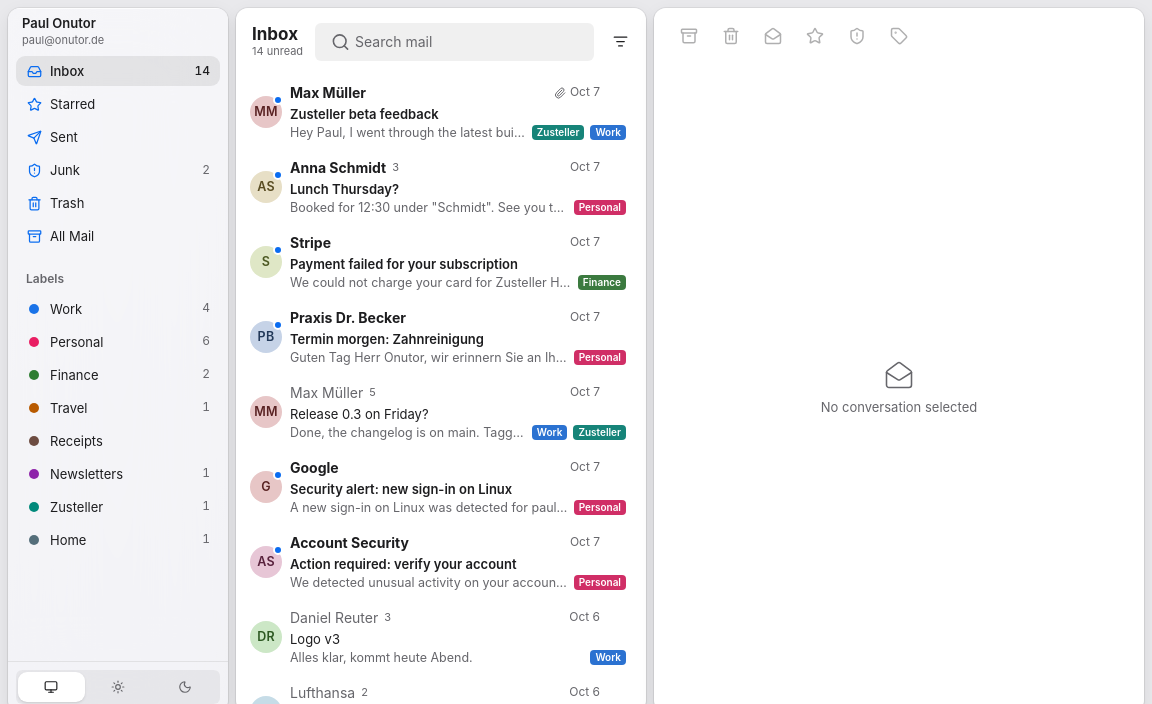
Scenario: Junk mailbox › lists seeded junk threads and keeps them out of Inbox, All Mail and Starred
Expected: the option that starts with "Max Müller" is shown, 244,75 -> 638,149
Click the button "Junk 2": (118, 170) 16,155 -> 220,185
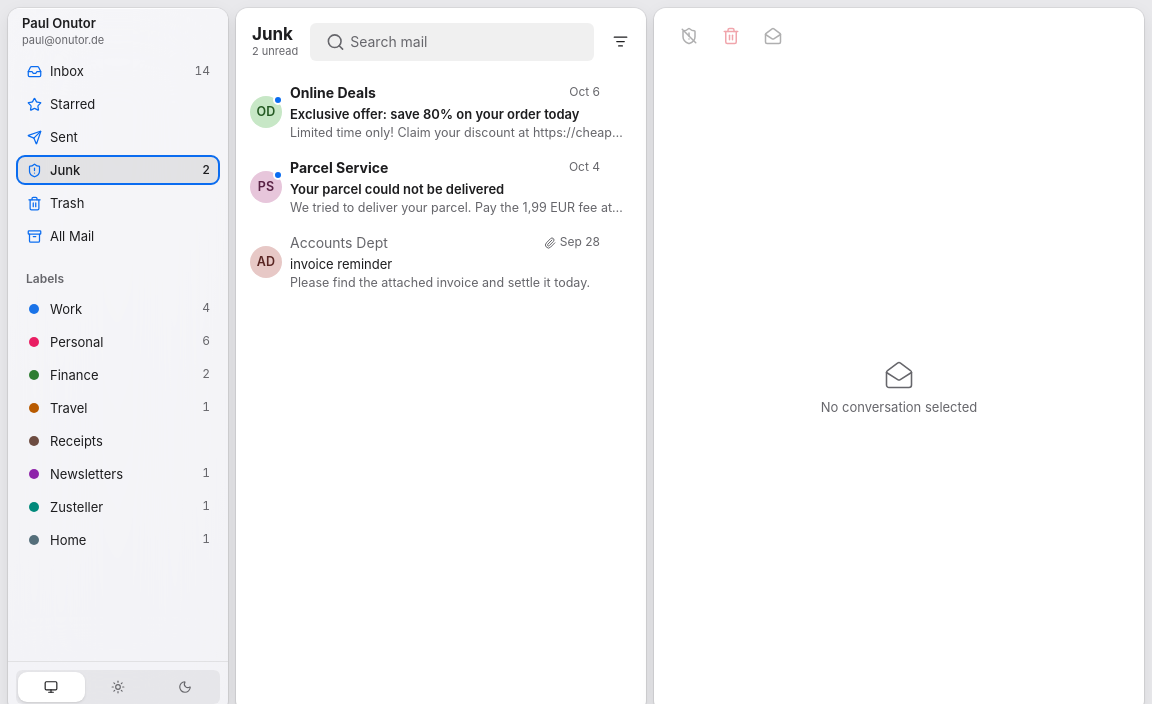
Expected: the heading "Junk" is shown, 252,24 -> 298,45
Expected: the option that starts with "Online Deals" is shown, 244,75 -> 638,149
Expected: the option that starts with "Parcel Service" is shown, 244,150 -> 638,224
Click the button "Inbox 14": (118, 71) 16,56 -> 220,86
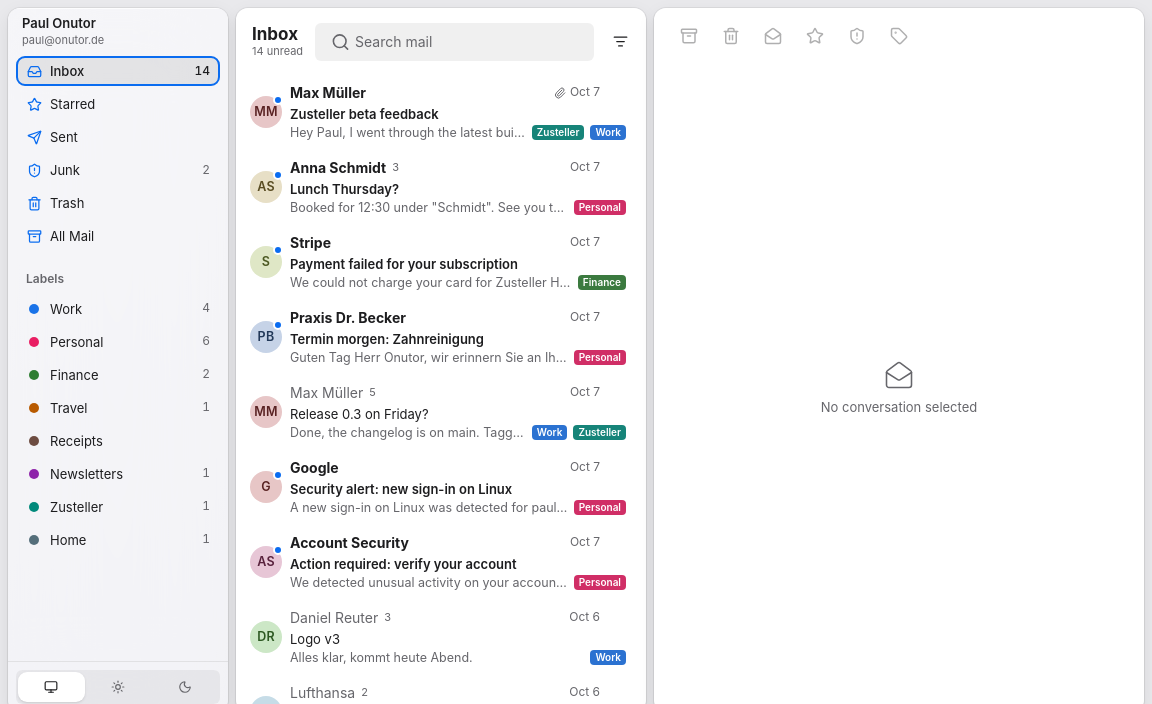
Expected: the option that starts with "Max Müller" is shown, 244,75 -> 638,149
Click the button "All Mail": (118, 236) 16,221 -> 220,251
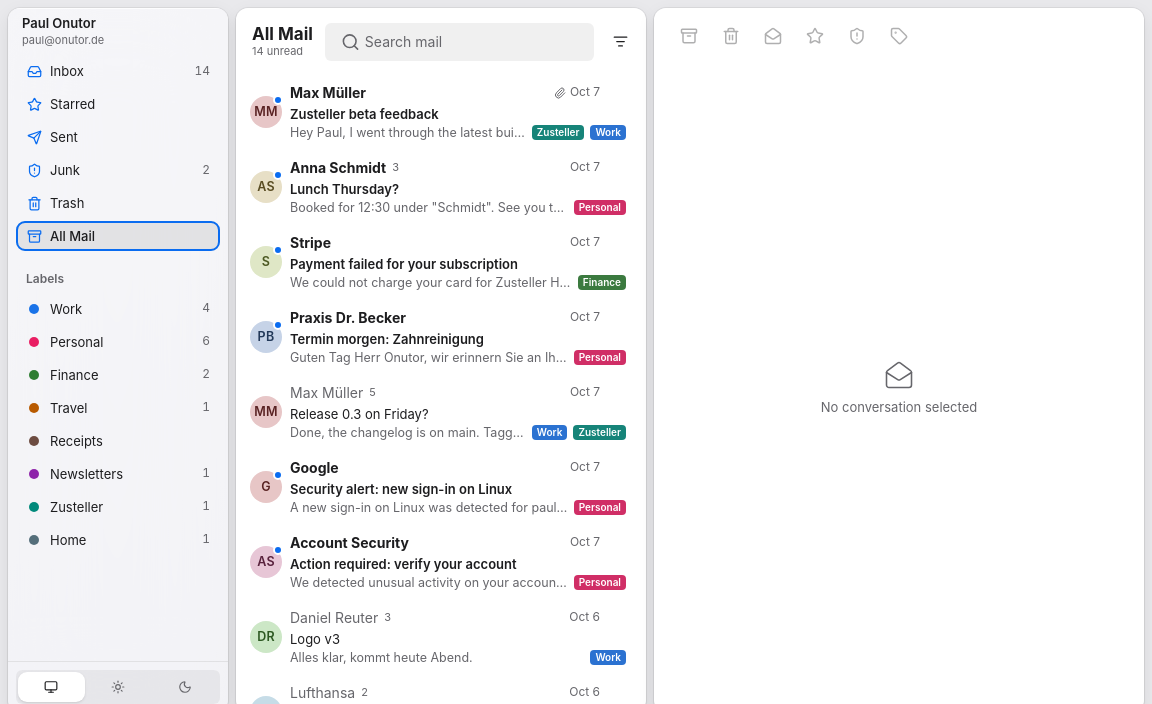
Expected: the option that starts with "Max Müller" is shown, 244,75 -> 638,149
Click the button "Starred": (118, 104) 16,89 -> 220,119
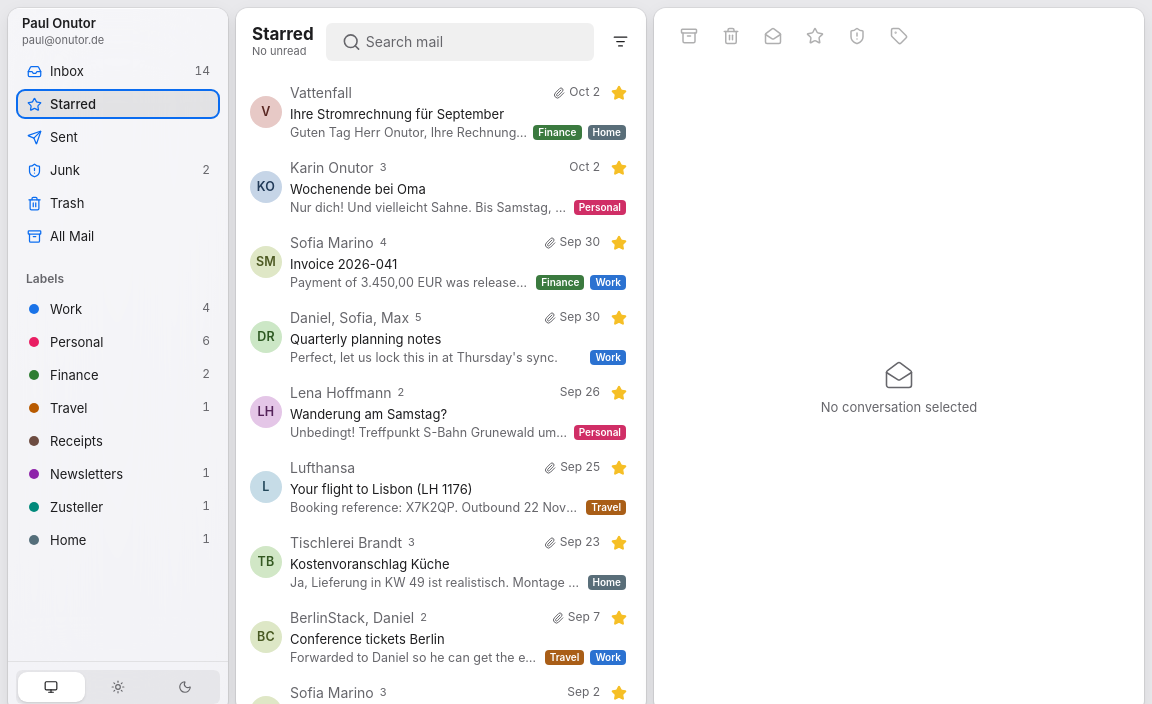
Expected: the option that starts with "Vattenfall" is shown, 244,75 -> 638,149
